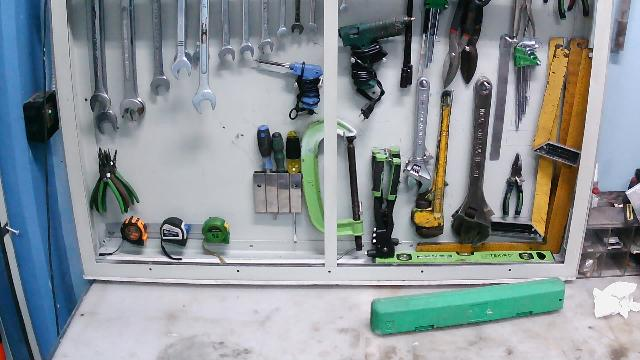meteran: (155, 214, 195, 261)
